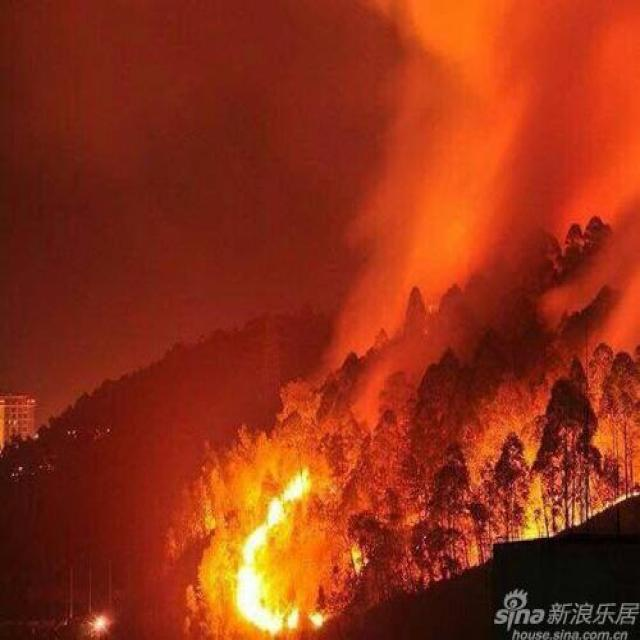fire: (198, 447, 364, 629), (448, 455, 608, 533)
